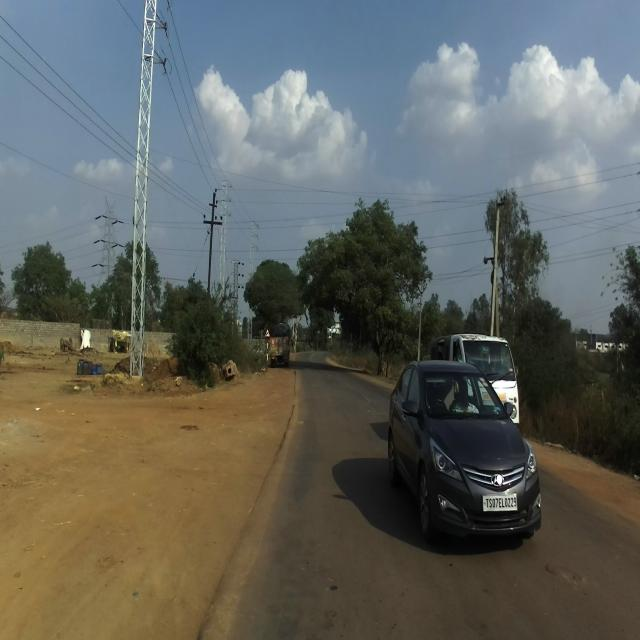Car_Hyundai: (387, 359, 542, 551)
truck: (428, 334, 520, 426)
